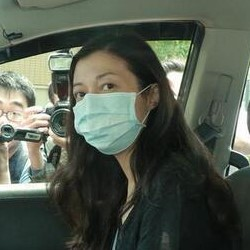mask: (70, 88, 147, 160)
